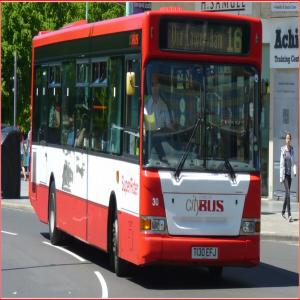Vehicle-registration-plate: (193, 248, 219, 260)
